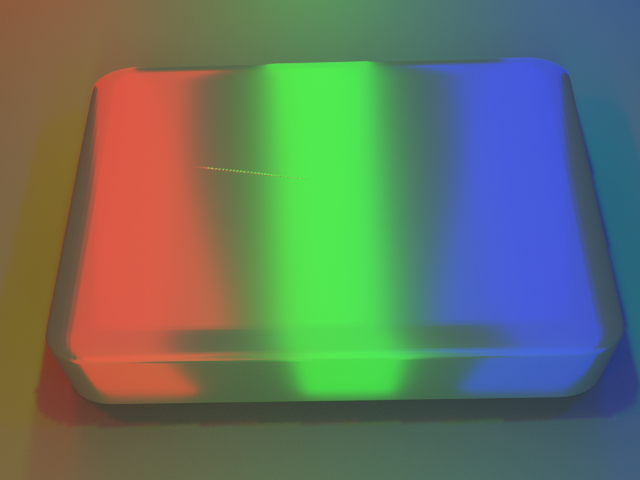scratch: (87, 83, 408, 258)
